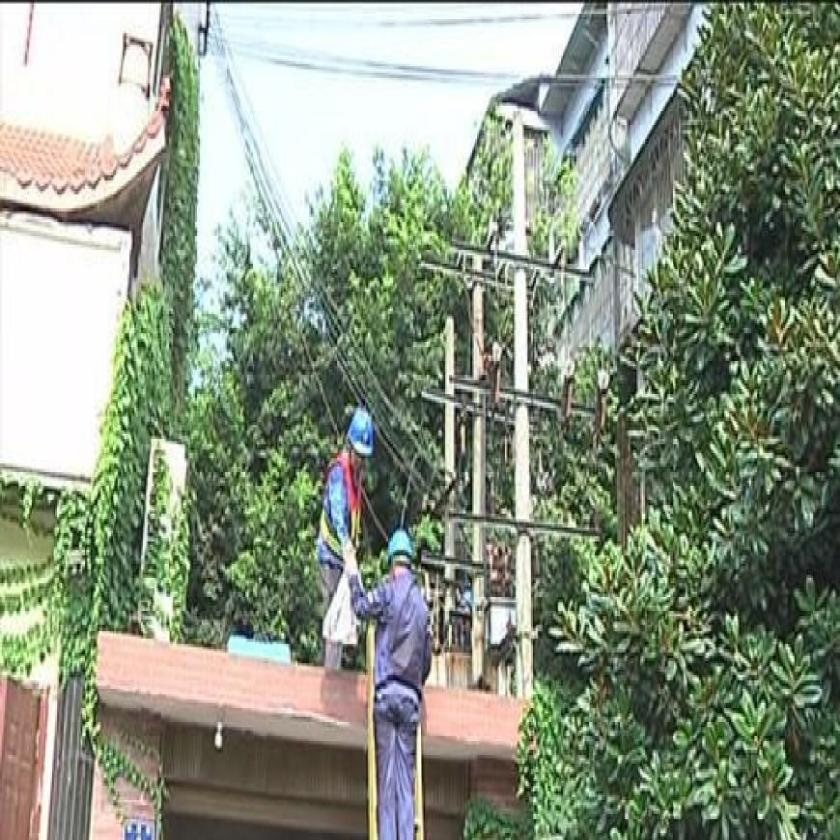Con_casco: (346, 409, 376, 490), (382, 533, 412, 585)
